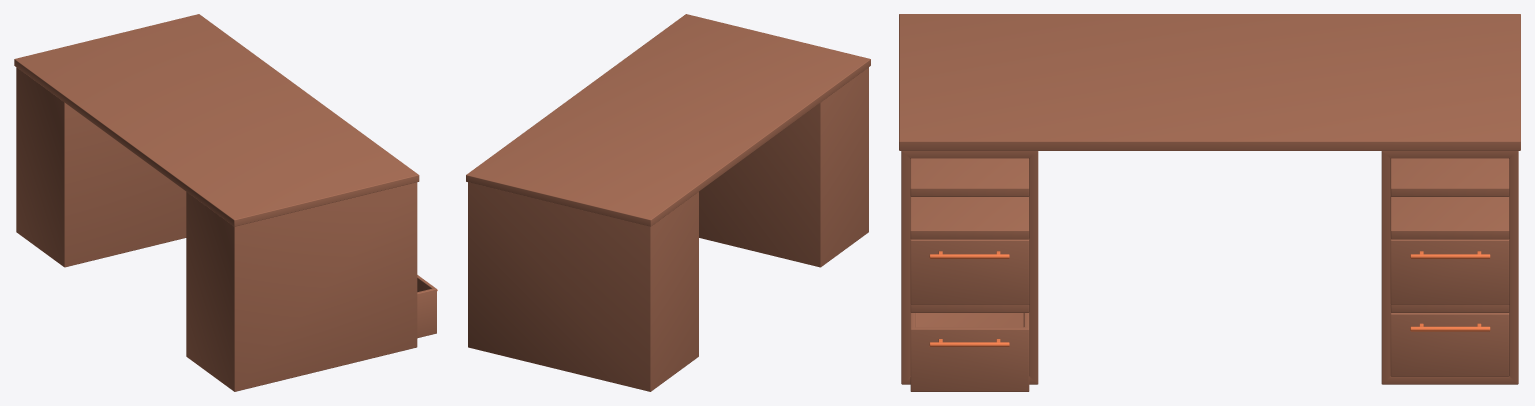
Rendered from desk.fbx.
3 renders of one model, left to right at view 1: azimuth 30°, elevation 25°; view 2: azimuth 150°, elevation 25°; view 3: azimuth 270°, elevation 25°, orthographic. The views are drawn at different scales.
Visible parts, largest first — view 1: Cube.006; view 2: Cube.006; view 3: Cube.006.
Boxes of the visible parts, x1=… form: Cube.006: x1=14, y1=14, x2=437, y2=391; Cube.006: x1=466, y1=14, x2=870, y2=391; Cube.006: x1=899, y1=14, x2=1520, y2=391.
Size of the model in its own units: 441 by 340 by 784.
